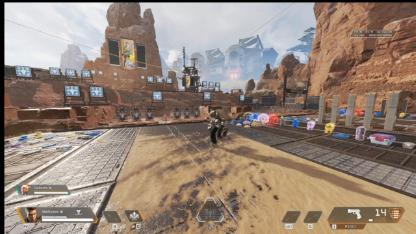Target: (206, 110, 228, 144)
